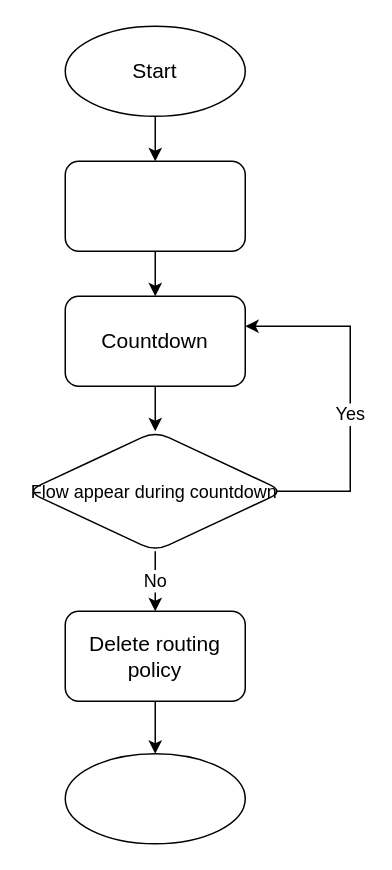
The diagram is 392 pixels wide and 870 high, and some of its shapes have lost their labels. Here are the shapes that lost their labels. From the top down, the centre of each, then its label:
At (x=154, y=205): "Policy created.".
At (x=154, y=798): "End".
